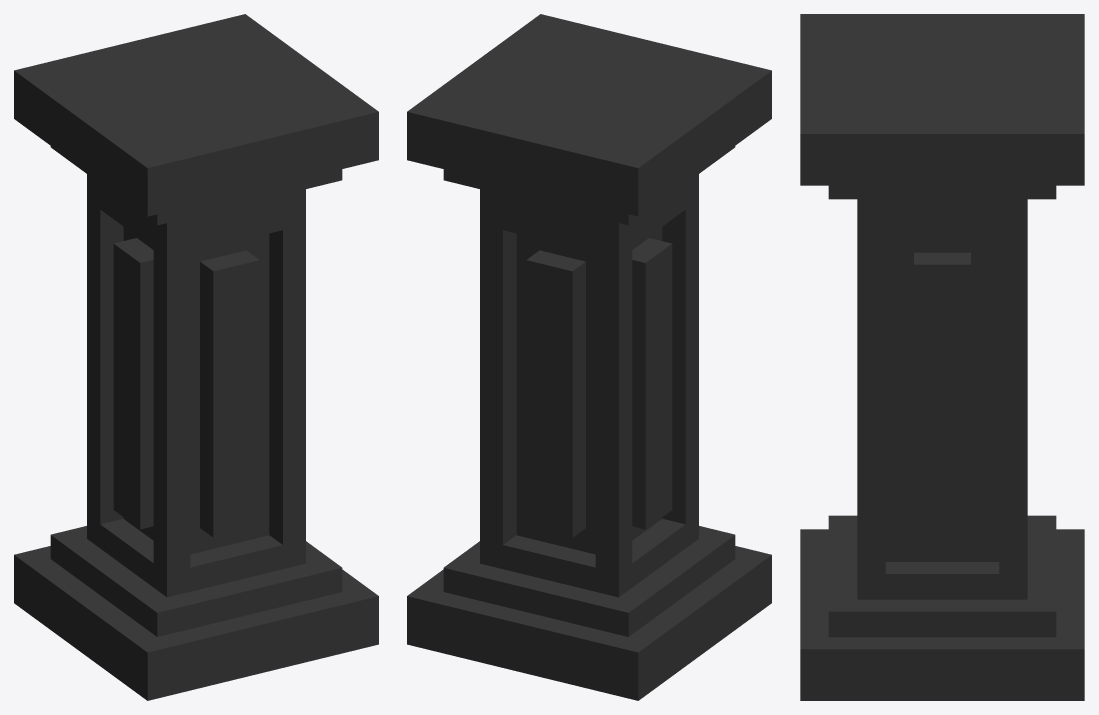
File: pillar.gltf
3 views of the same model, side by side, from view 1: azimuth 30°, elevation 25°; view 2: azimuth 150°, elevation 25°; view 3: azimuth 270°, elevation 25° (orthographic). The views are drawn at different scales.
Parts seen in each view (by area): view 1: Layer.1; view 2: Layer.1; view 3: Layer.1.
Part boxes in pixels (x1,y1,x2,y2): Layer.1: [14, 14, 378, 700]; Layer.1: [407, 14, 771, 700]; Layer.1: [800, 14, 1084, 700].
Size of the model in its own units: 10 by 22 by 10.
Materials: 1 (1 with a texture image).
